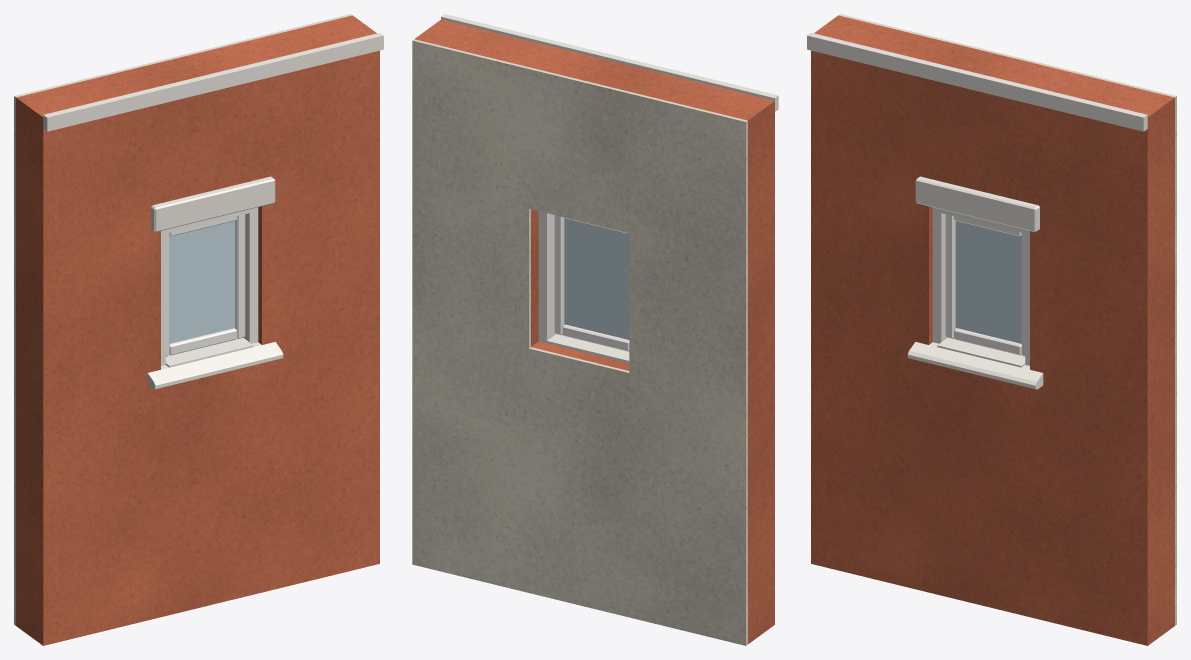
The model's file is wall_render_small_window.glb.
3 renders of one model, left to right at view 1: azimuth 30°, elevation 25°; view 2: azimuth 150°, elevation 25°; view 3: azimuth 330°, elevation 25°, orthographic.
Parts seen in each view (by area): view 1: wall_render_small_window_render, wall_render_small_window_trim, wall_render_small_window_glass, wall_render_small_window_sash, wall_render_small_window_frame, wall_render_small_window_plaster; view 2: wall_render_small_window_plaster, wall_render_small_window_render, wall_render_small_window_glass, wall_render_small_window_trim, wall_render_small_window_sash, wall_render_small_window_frame; view 3: wall_render_small_window_render, wall_render_small_window_trim, wall_render_small_window_glass, wall_render_small_window_sash, wall_render_small_window_frame, wall_render_small_window_plaster.
Boxes of the visible parts, x1,y1,x2,y2 form: wall_render_small_window_render: [16, 15, 379, 645]; wall_render_small_window_trim: [43, 32, 383, 389]; wall_render_small_window_glass: [169, 221, 235, 343]; wall_render_small_window_sash: [165, 214, 245, 356]; wall_render_small_window_frame: [161, 207, 258, 365]; wall_render_small_window_plaster: [14, 14, 352, 625]; wall_render_small_window_plaster: [412, 39, 747, 645]; wall_render_small_window_render: [414, 19, 774, 644]; wall_render_small_window_glass: [564, 218, 629, 339]; wall_render_small_window_trim: [441, 14, 778, 363]; wall_render_small_window_sash: [554, 215, 629, 351]; wall_render_small_window_frame: [538, 211, 555, 343]; wall_render_small_window_render: [811, 15, 1174, 645]; wall_render_small_window_trim: [807, 32, 1147, 389]; wall_render_small_window_glass: [955, 221, 1021, 343]; wall_render_small_window_sash: [945, 214, 1025, 356]; wall_render_small_window_frame: [932, 207, 1029, 365]; wall_render_small_window_plaster: [838, 14, 1176, 625].
Size of the model in its own units: 2 by 3.02 by 0.38.
6 materials, 2 textured.
